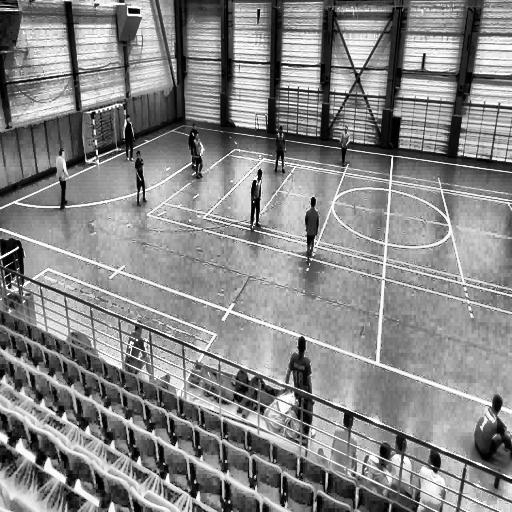player: (304, 195, 319, 265), (250, 168, 264, 230), (56, 148, 70, 209), (135, 149, 147, 206), (274, 124, 287, 174), (192, 128, 203, 180), (123, 114, 135, 160), (189, 120, 199, 171), (340, 125, 350, 167)
